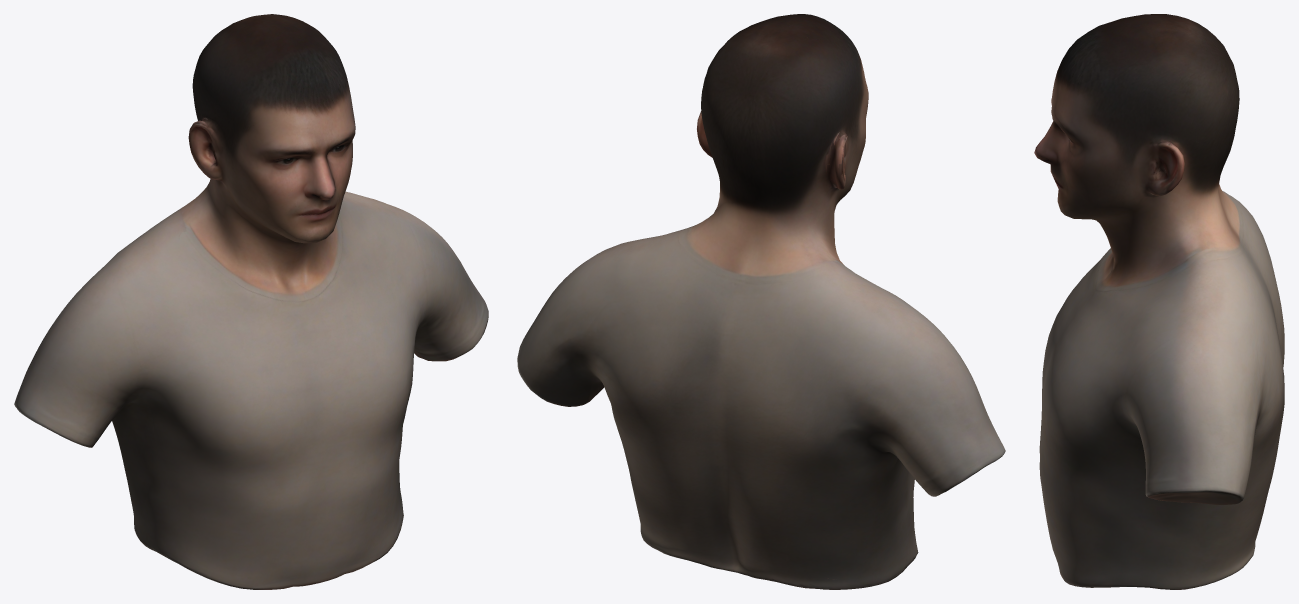
File: man1.glb
3 renders of one model, left to right at view 1: azimuth 30°, elevation 25°; view 2: azimuth 150°, elevation 25°; view 3: azimuth 270°, elevation 25°, orthographic. The views are drawn at different scales.
Bounding box in the file's own units: 1.83 × 2 × 0.846.
Materials: 1 (1 with a texture image).
